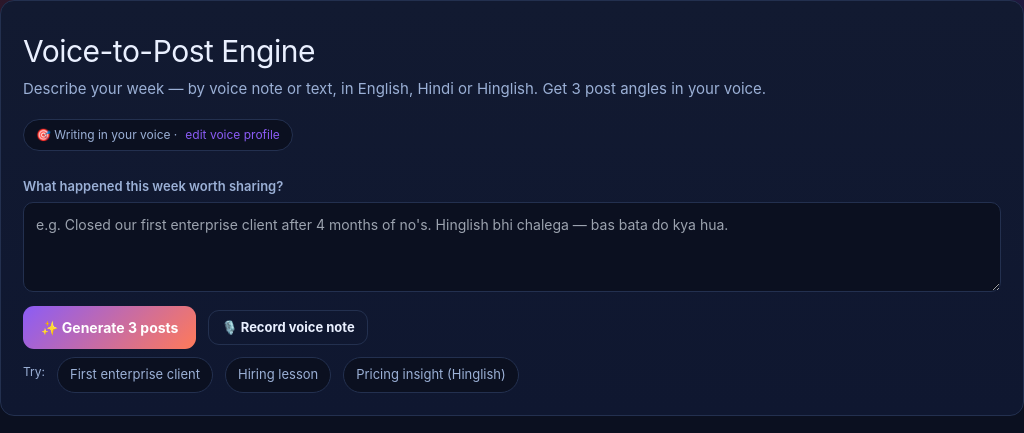
<GenerateClient> › reflects Hindi output mode in the hint
This screenshot has width=1024, height=433.
Step 1. Type "Closed a deal" into the text box labelled "What happened this week worth sharing?" → coordinates (512, 247), box [23,202,1001,292]
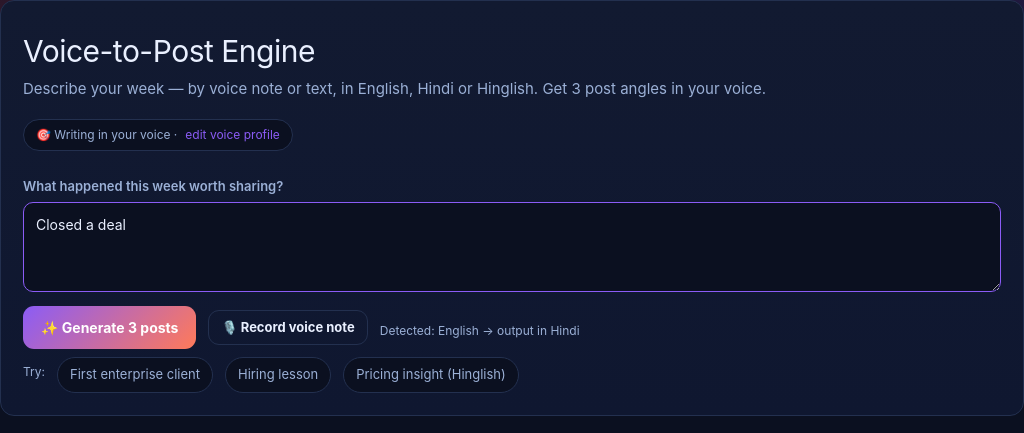
expect the text "Detected: English → output in Hindi" is shown: met, box [380,322,580,340]
